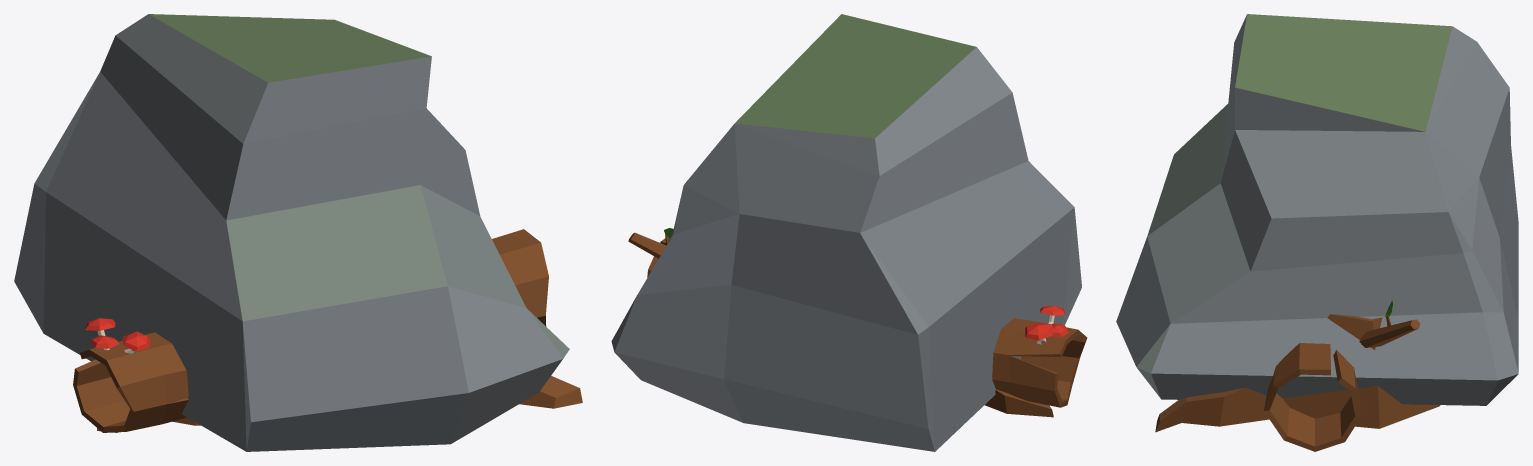
Rendered from debris.glb.
3 renders of one model, left to right at view 1: azimuth 30°, elevation 25°; view 2: azimuth 150°, elevation 25°; view 3: azimuth 270°, elevation 25°, orthographic. The views are drawn at different scales.
Parts seen in each view (by area): view 1: debris-boulder, debris-log, debris-big_stump; view 2: debris-boulder, debris-log, debris-big_stump; view 3: debris-boulder, debris-big_stump, debris-log.
Boxes of the visible parts, x1,y1,x2,y2 form: debris-boulder: [14, 14, 569, 451]; debris-log: [73, 229, 548, 432]; debris-big_stump: [97, 376, 582, 432]; debris-boulder: [611, 14, 1081, 451]; debris-log: [647, 238, 1087, 407]; debris-big_stump: [628, 228, 1053, 417]; debris-boulder: [1116, 14, 1518, 405]; debris-big_stump: [1155, 300, 1440, 432]; debris-log: [1264, 343, 1360, 451].
Bounding box in the file's own units: 3.6 × 2.7 × 3.2.
